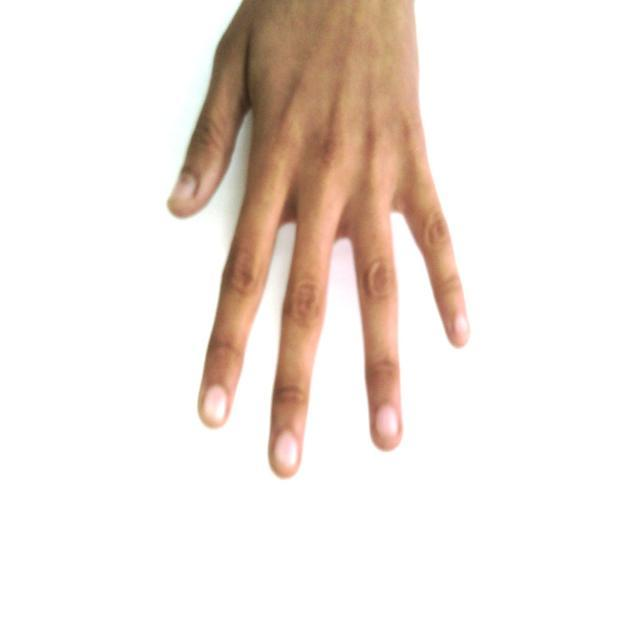Fingernail: (204, 387, 226, 423), (170, 173, 196, 203), (275, 433, 297, 468), (377, 407, 398, 438), (453, 316, 469, 336)
